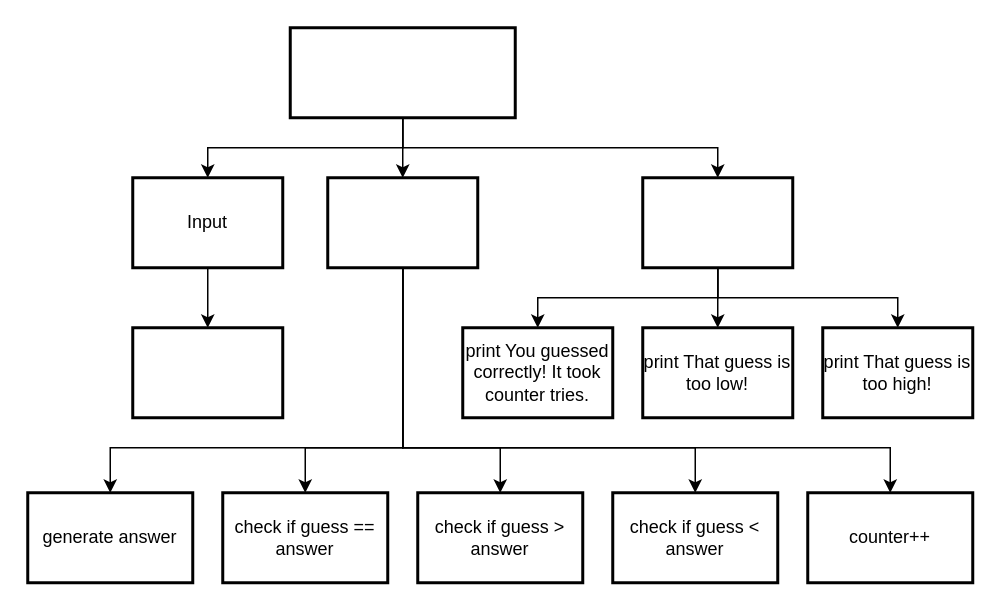
Some shapes in this 999 by 609 pixel diagram are drawn without their labels. The centre of each missing label's shape, as x and y in pixels:
final_number_guesser: the point at 402,72
get guess: the point at 207,372
Output: the point at 717,222
Process: the point at 402,222
